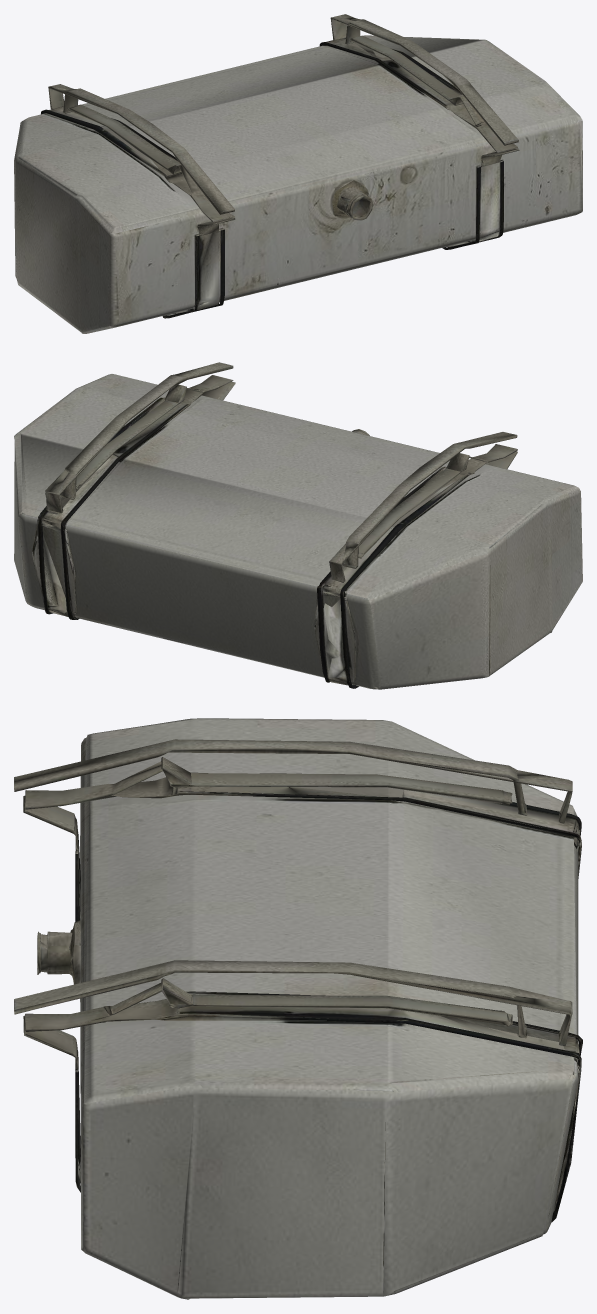
The model's file is droptank.glb.
The picture shows the model from 3 angles, top to bottom: view 1: azimuth 30°, elevation 25°; view 2: azimuth 150°, elevation 25°; view 3: azimuth 270°, elevation 25°; orthographic projection. The views are drawn at different scales.
Visible parts, largest first — view 1: droptank; view 2: droptank; view 3: droptank.
Part boxes in pixels (left/top/right/bottom): droptank: left=14, top=14, right=582, bottom=333; droptank: left=14, top=362, right=582, bottom=689; droptank: left=14, top=718, right=582, bottom=1299.
Size of the model in its own units: 1.3 by 0.4384 by 0.8397.
1 material, 1 textured.
